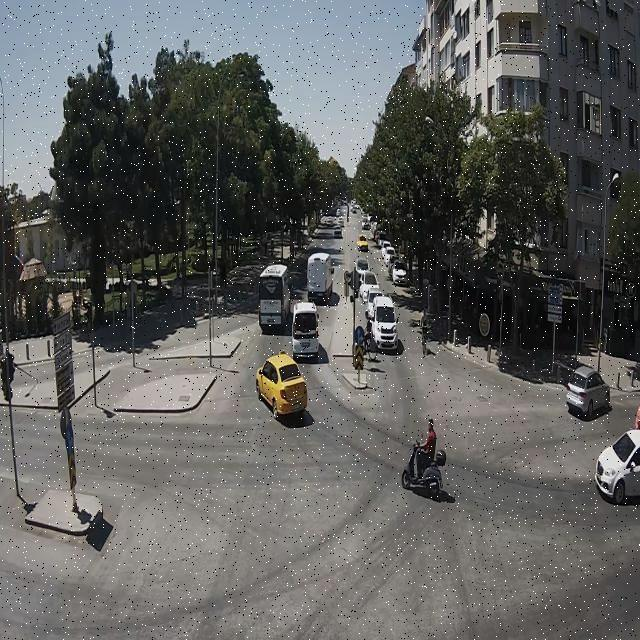Bus: (258, 265, 292, 331)
Car: (595, 428, 640, 506), (255, 355, 309, 418), (565, 365, 611, 418), (369, 297, 398, 351), (355, 270, 379, 303), (363, 286, 386, 320), (391, 262, 408, 286), (381, 246, 396, 266), (356, 257, 369, 276), (379, 240, 392, 254), (357, 237, 369, 252), (375, 236, 385, 248), (334, 227, 342, 238), (362, 221, 370, 230), (368, 215, 376, 224)
Cycle: (400, 439, 448, 497)
Van: (290, 301, 320, 358), (305, 252, 335, 302)
